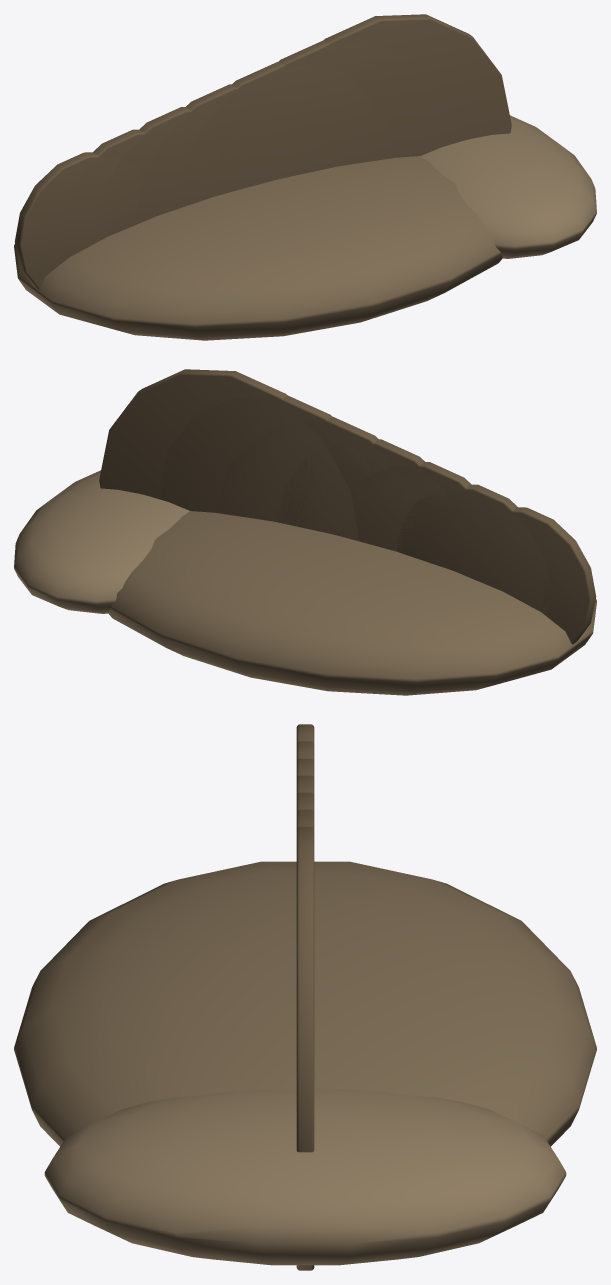
Rendered from trilobita.glb.
3 renders of one model, top to bottom at view 1: azimuth 30°, elevation 25°; view 2: azimuth 150°, elevation 25°; view 3: azimuth 270°, elevation 25°, orthographic. The views are drawn at different scales.
Visible parts, largest first — view 1: trilobita; view 2: trilobita; view 3: trilobita.
Boxes of the visible parts, left/top/right/bottom form: trilobita: left=14, top=14, right=596, bottom=340; trilobita: left=14, top=369, right=596, bottom=695; trilobita: left=14, top=724, right=596, bottom=1270.
Size of the model in its own units: 1.57 by 0.76 by 0.9975.
